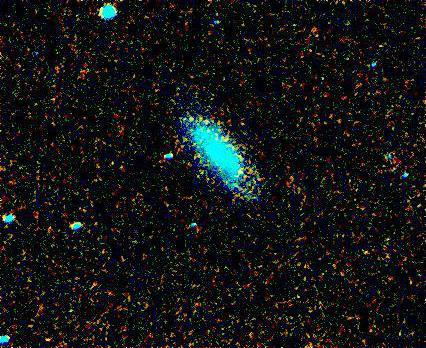star: (224, 157, 254, 187)
